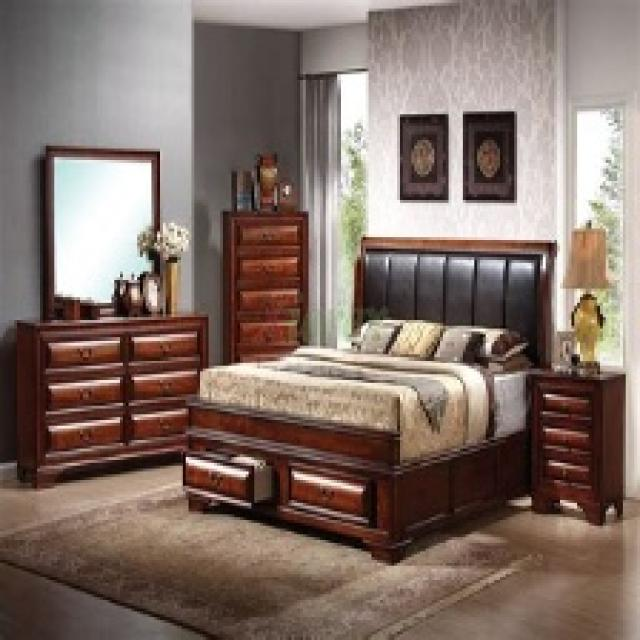Bed: (180, 234, 557, 563)
